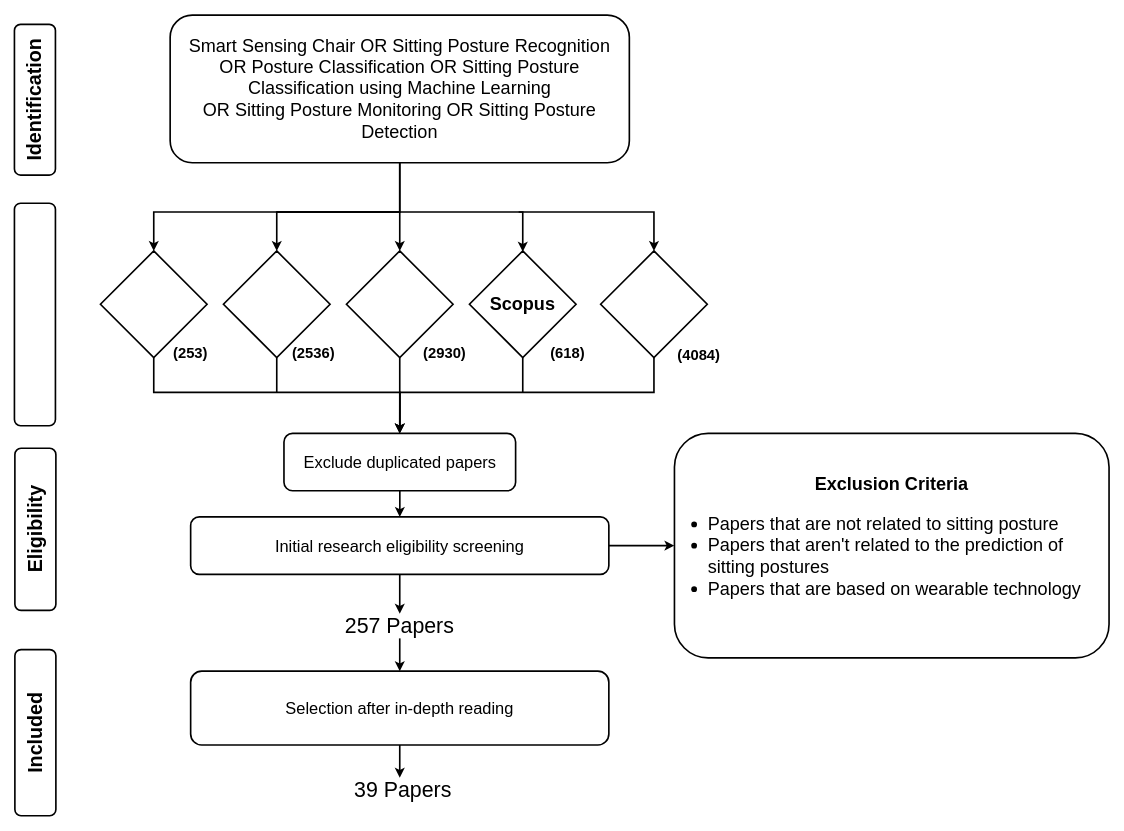
The diagram is 1124 pixels wide and 831 high, and some of its shapes have lost their labels. The box of each missing label's shape, as (x1, y1, x2, y2) in pixels:
Google Scholar: (345, 250, 453, 358)
IEEE: (222, 250, 330, 358)
MDPI: (99, 250, 207, 358)
PubMed: (599, 250, 708, 358)
Screening: (13, 202, 56, 426)
